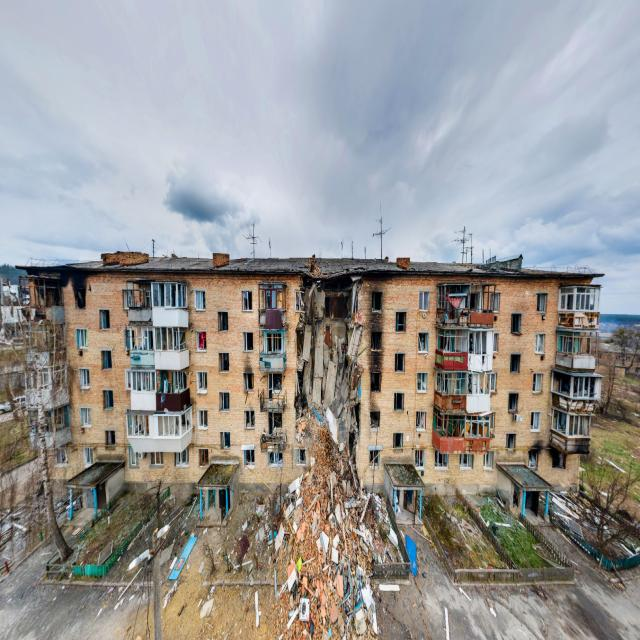roof: (14, 252, 604, 286)
